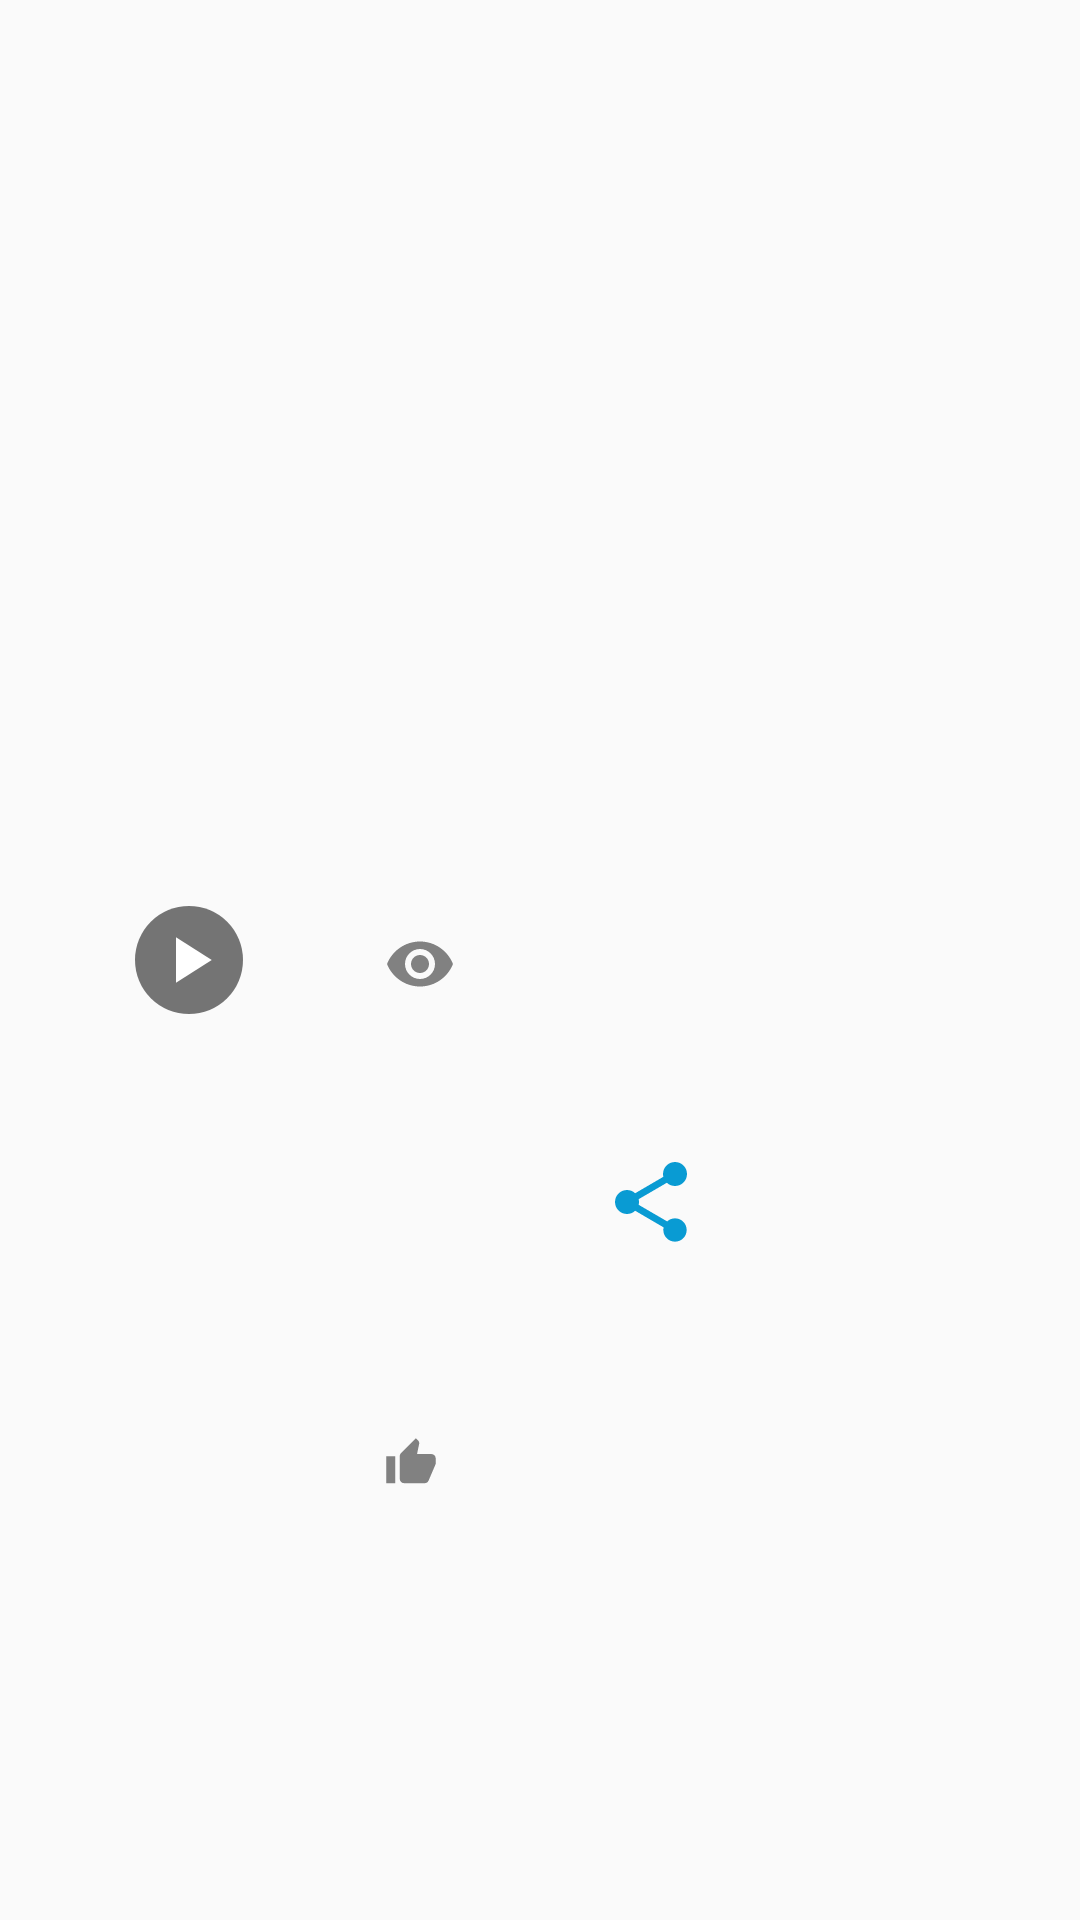

Point at icon controls on the screen. Image size 1080 x 1920, points as [x,y].
Play video: [189,960]
Share video: [651,1202]
